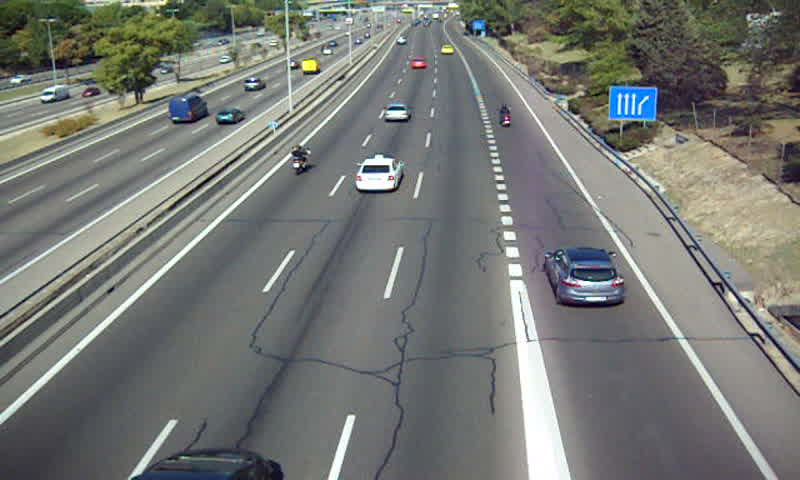car: (545, 247, 625, 307), (356, 157, 403, 191), (382, 102, 410, 123), (410, 57, 428, 71), (440, 44, 455, 55)
motorcycle: (290, 142, 311, 176), (498, 104, 515, 129)
